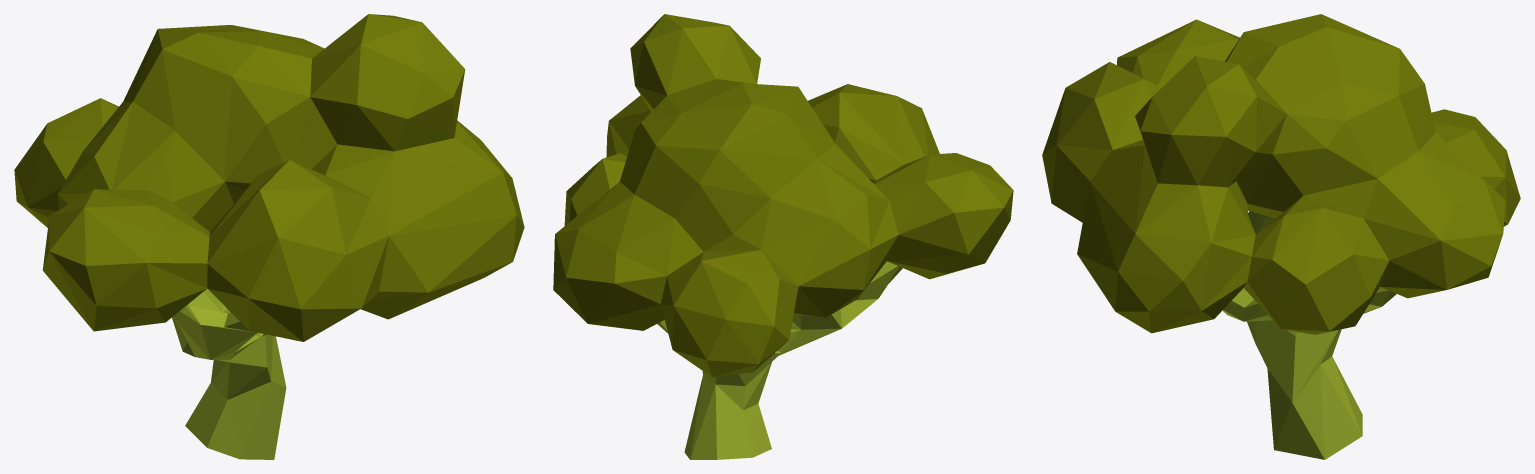
File: Broccoli.glb
3 renders of one model, left to right at view 1: azimuth 30°, elevation 25°; view 2: azimuth 150°, elevation 25°; view 3: azimuth 270°, elevation 25°, orthographic. The views are drawn at different scales.
Parts seen in each view (by area): view 1: Broccoli; view 2: Broccoli; view 3: Broccoli.
Part boxes in pixels (<box>): Broccoli: <box>14,14,524,459</box>; Broccoli: <box>553,14,1013,459</box>; Broccoli: <box>1042,14,1520,459</box>.
Size of the model in its own units: 0.2351 by 0.2166 by 0.2231.
